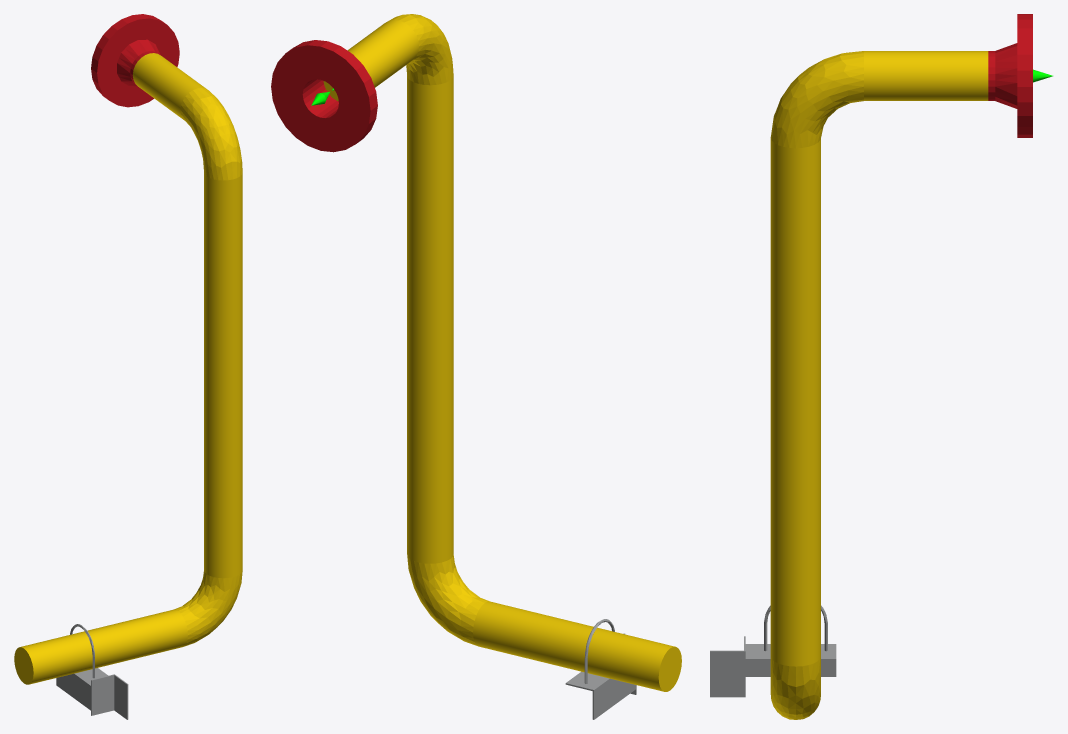
Rendered from Phase43c.fbx.
The picture shows the model from 3 angles, left to right: view 1: azimuth 30°, elevation 25°; view 2: azimuth 150°, elevation 25°; view 3: azimuth 270°, elevation 25°; orthographic projection. The views are drawn at different scales.
Visible parts, largest first — view 1: Типы трубопроводов:CPS_Бесшовная труба из нс:1540262, Типы трубопроводов:CPS_Бесшовная труба из нс:1540249, Сталь нержавеющая (×2), Сталь нержавеющая Фланец, Типы трубопроводов:CPS_Бесшовная труба из нс:1540275, Уголок 63-63:Уголок 63-63:1532047, Полка:Полка:1525736; view 2: Типы трубопроводов:CPS_Бесшовная труба из нс:1540262, Типы трубопроводов:CPS_Бесшовная труба из нс:1540249, Сталь нержавеющая Фланец, Сталь нержавеющая (×2), Типы трубопроводов:CPS_Бесшовная труба из нс:1540275, Полка:Полка:1525736; view 3: Типы трубопроводов:CPS_Бесшовная труба из нс:1540262, Сталь нержавеющая (×2), Типы трубопроводов:CPS_Бесшовная труба из нс:1540275, Сталь нержавеющая Фланец, Уголок 63-63:Уголок 63-63:1532047, Полка:Полка:1525736.
Boxes of the visible parts, <box> form: Типы трубопроводов:CPS_Бесшовная труба из нс:1540262: <box>204,173,242,578</box>; Типы трубопроводов:CPS_Бесшовная труба из нс:1540249: <box>14,609,187,684</box>; Сталь нержавеющая (×2): <box>174,88,242,646</box>; Сталь нержавеющая Фланец: <box>91,14,179,107</box>; Типы трубопроводов:CPS_Бесшовная труба из нс:1540275: <box>132,53,208,120</box>; Уголок 63-63:Уголок 63-63:1532047: <box>91,674,128,719</box>; Полка:Полка:1525736: <box>56,668,108,710</box>; Типы трубопроводов:CPS_Бесшовная труба из нс:1540262: <box>407,76,453,563</box>; Типы трубопроводов:CPS_Бесшовная труба из нс:1540249: <box>473,601,681,691</box>; Сталь нержавеющая Фланец: <box>271,40,377,152</box>; Сталь нержавеющая (×2): <box>389,14,489,646</box>; Типы трубопроводов:CPS_Бесшовная труба из нс:1540275: <box>323,20,418,101</box>; Полка:Полка:1525736: <box>565,671,635,719</box>; Типы трубопроводов:CPS_Бесшовная труба из нс:1540262: <box>770,138,820,666</box>; Сталь нержавеющая (×2): <box>770,51,863,719</box>; Типы трубопроводов:CPS_Бесшовная труба из нс:1540275: <box>864,51,988,100</box>; Сталь нержавеющая Фланец: <box>988,14,1032,137</box>; Уголок 63-63:Уголок 63-63:1532047: <box>710,636,745,697</box>; Полка:Полка:1525736: <box>745,644,836,676</box>.
Size of the model in its own units: 640 by 607 by 1479.
